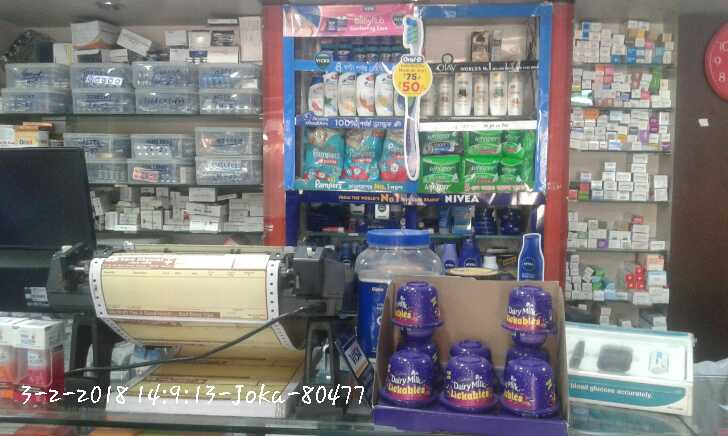vicks: (320, 33, 405, 64)
